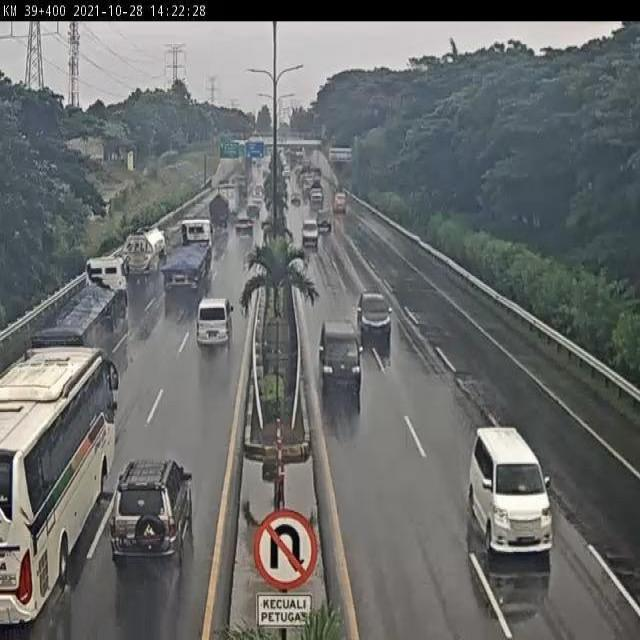bus-l-: (0, 347, 119, 628)
car: (109, 457, 195, 567), (317, 314, 360, 386), (195, 293, 234, 351), (300, 217, 320, 248), (233, 215, 256, 241), (316, 207, 333, 230)
truck-m-: (119, 223, 169, 280)
truck-s-: (205, 194, 230, 238)
truck-xl-: (32, 257, 132, 356), (161, 219, 214, 293)
